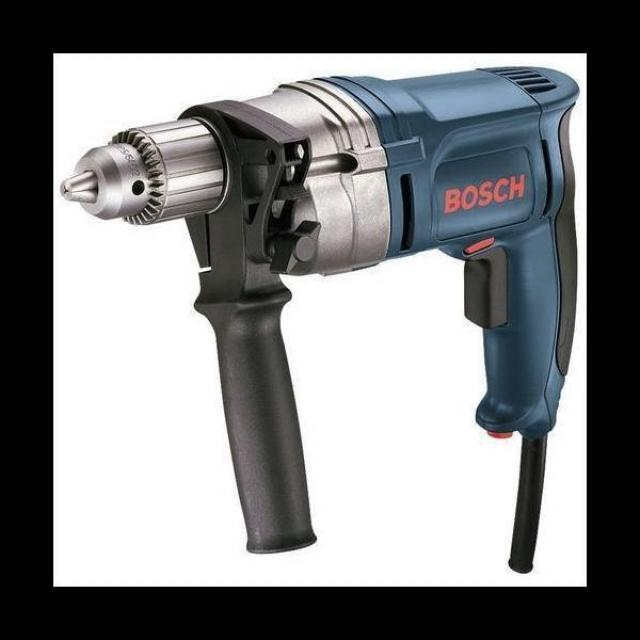drill: (60, 64, 580, 574)
